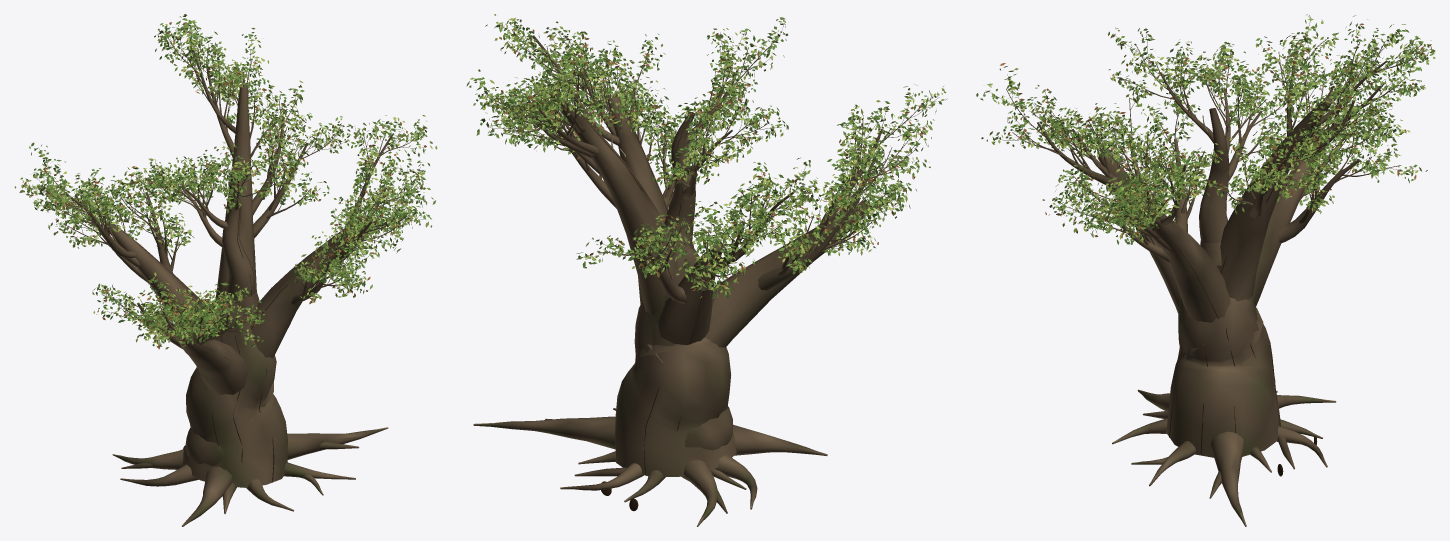
The model's file is ancient_tree_10_lod1.glb.
The picture shows the model from 3 angles, left to right: view 1: azimuth 30°, elevation 25°; view 2: azimuth 150°, elevation 25°; view 3: azimuth 270°, elevation 25°; orthographic projection. The views are drawn at different scales.
Visible parts, largest first — view 1: AncientTreeWood_LOD1, AncientLeaves_LOD1, FineBranches_LOD1, DirectedBarkGrooves_LOD1; view 2: AncientTreeWood_LOD1, AncientLeaves_LOD1, FineBranches_LOD1, DirectedBarkGrooves_LOD1; view 3: AncientTreeWood_LOD1, AncientLeaves_LOD1, FineBranches_LOD1, DirectedBarkGrooves_LOD1.
Boxes of the visible parts, x1,y1,x2,y2 form: AncientTreeWood_LOD1: (37,26,418,526); AncientLeaves_LOD1: (14,14,437,349); FineBranches_LOD1: (23,23,424,338); DirectedBarkGrooves_LOD1: (111,87,361,482); AncientTreeWood_LOD1: (473,29,925,526); AncientLeaves_LOD1: (466,14,947,298); FineBranches_LOD1: (481,22,939,290); DirectedBarkGrooves_LOD1: (558,93,863,474); AncientTreeWood_LOD1: (1006,39,1422,526); AncientLeaves_LOD1: (976,14,1435,244); FineBranches_LOD1: (994,20,1430,239); DirectedBarkGrooves_LOD1: (1098,97,1327,454).
Bounding box in the file's own units: 18.53 × 21.46 × 19.65.
